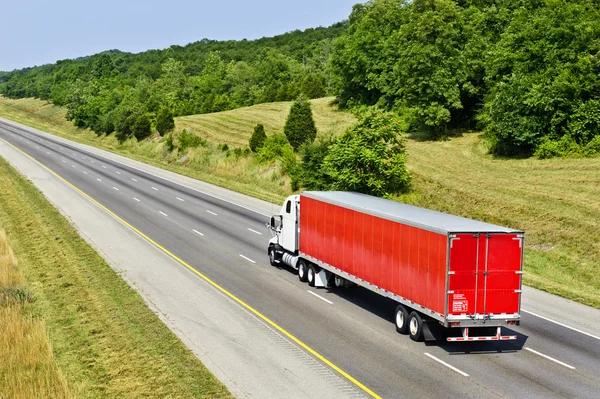vehicle: (268, 191, 524, 342)
